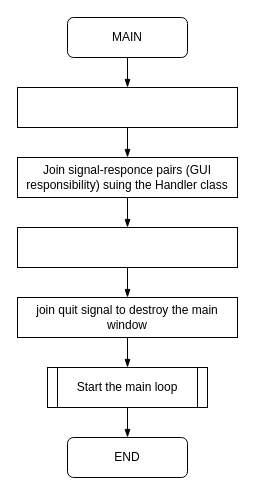
The diagram is 255 pixels wide and 495 high, and some of its shapes have lost their labels. The shapes that lost their labels are listed below. From the top down, each one's centre as x and y in pixels, then its label:
At pixel 127 107: "Load interface widgets from XML file using the Builder class".
At pixel 127 247: "Load CSS theme override from file and add to interface".
